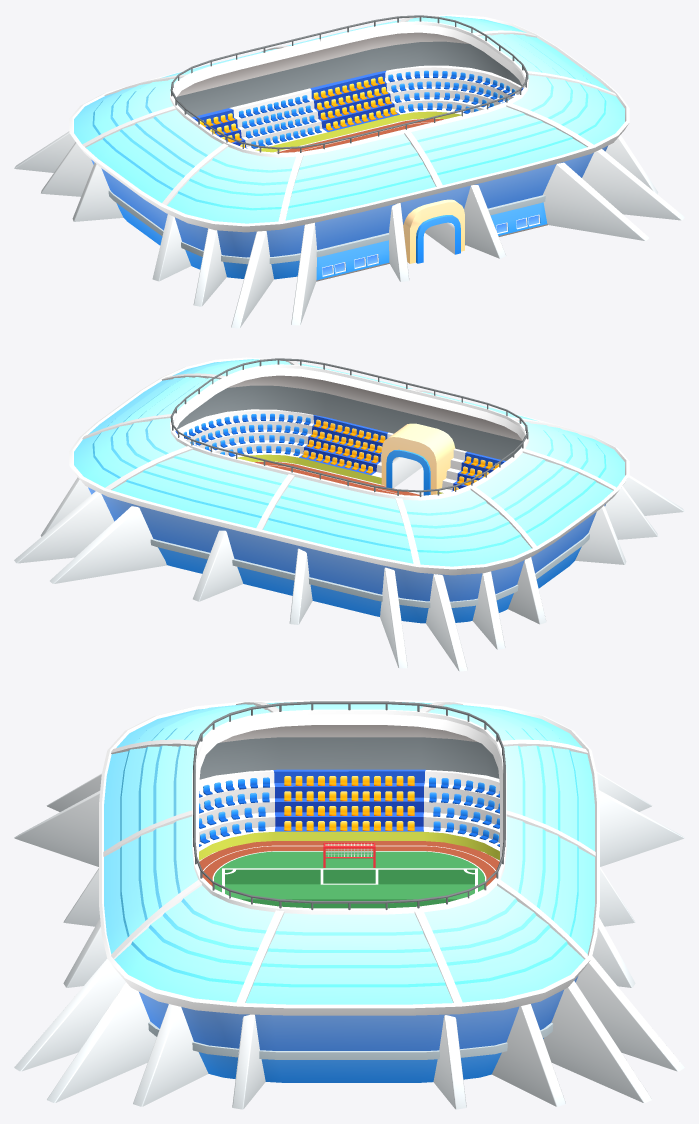
File: city2-stadium-01.glb
3 renders of one model, top to bottom at view 1: azimuth 30°, elevation 25°; view 2: azimuth 150°, elevation 25°; view 3: azimuth 270°, elevation 25°, orthographic. The views are drawn at different scales.
Parts seen in each view (by area): view 1: Stadium_01; view 2: Stadium_01; view 3: Stadium_01.
Part boxes in pixels (bbox=[...]): Stadium_01: bbox=[14, 14, 684, 328]; Stadium_01: bbox=[14, 357, 684, 671]; Stadium_01: bbox=[14, 700, 684, 1109].
Size of the model in its own units: 97.24 by 21.97 by 87.92.
1 material, 1 textured.
